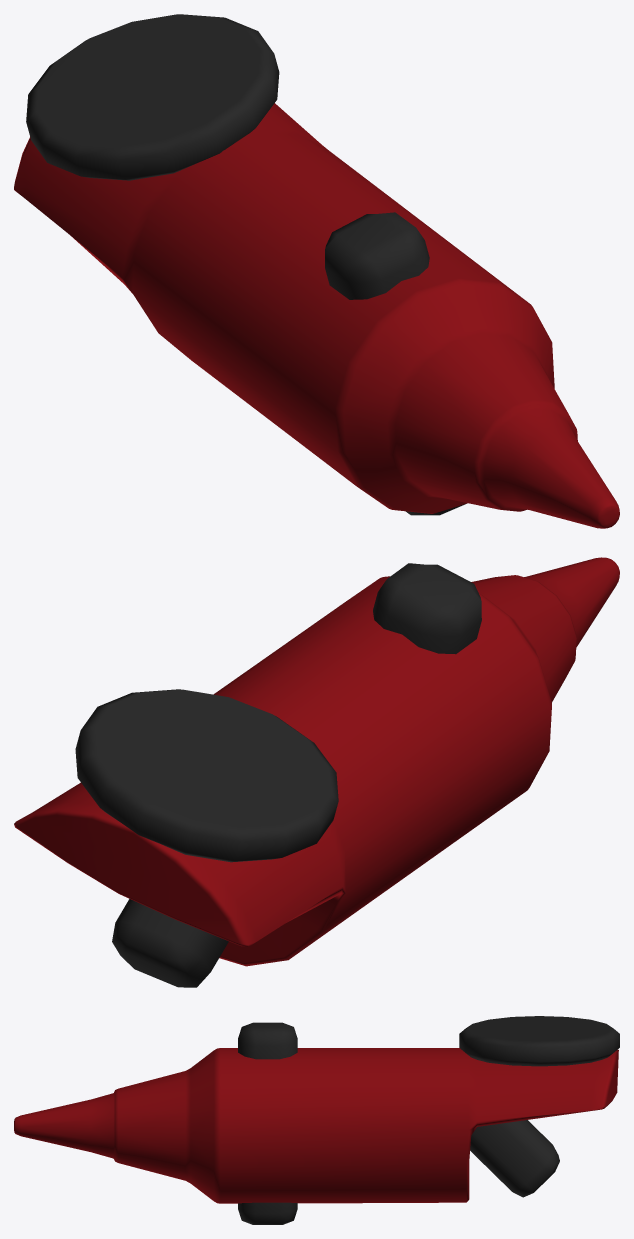
File: Ship_enemy_04_Weapon_R.fbx
3 views of the same model, one above another, from view 1: azimuth 30°, elevation 25°; view 2: azimuth 150°, elevation 25°; view 3: azimuth 270°, elevation 25° (orthographic). The views are drawn at different scales.
Visible parts, largest first — view 1: Ship_enemy_04_Weapon_R; view 2: Ship_enemy_04_Weapon_R; view 3: Ship_enemy_04_Weapon_R.
Part boxes in pixels (bbox=[...]): Ship_enemy_04_Weapon_R: bbox=[14, 14, 619, 528]; Ship_enemy_04_Weapon_R: bbox=[14, 557, 619, 987]; Ship_enemy_04_Weapon_R: bbox=[14, 1016, 619, 1224].
Size of the model in its own units: 80.04 by 91.97 by 265.
